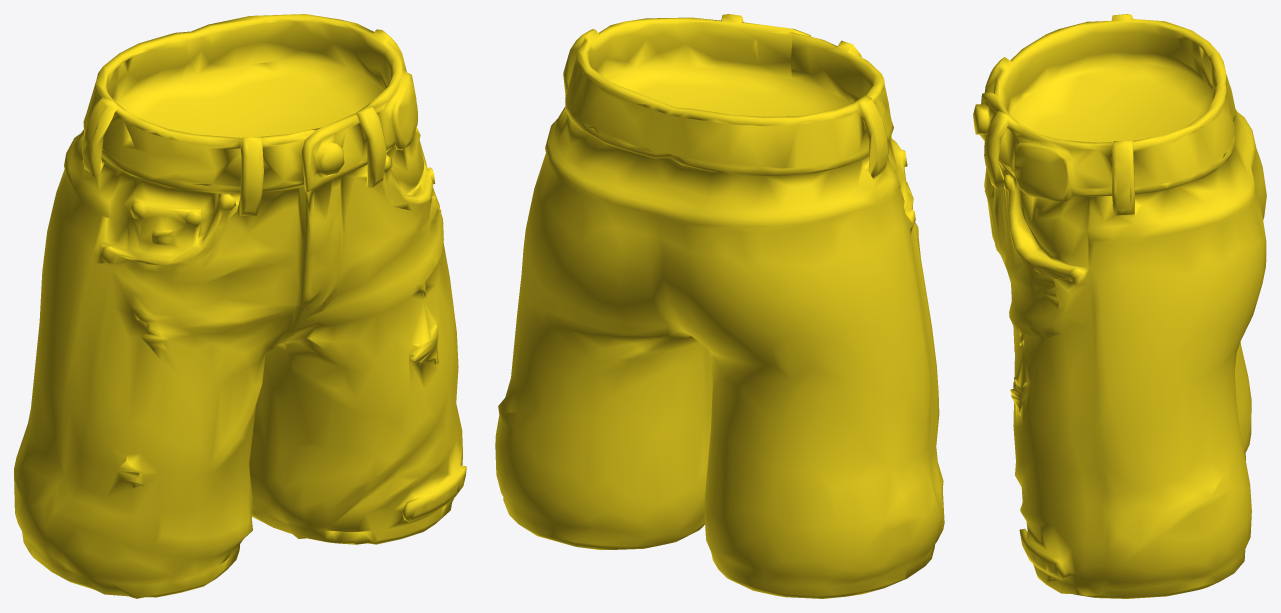
Rendered from Cloth_Jeans.glb.
3 renders of one model, left to right at view 1: azimuth 30°, elevation 25°; view 2: azimuth 150°, elevation 25°; view 3: azimuth 270°, elevation 25°, orthographic. The views are drawn at different scales.
Visible parts, largest first — view 1: 衣服_牛仔褲; view 2: 衣服_牛仔褲; view 3: 衣服_牛仔褲.
Part boxes in pixels (x1=…): 衣服_牛仔褲: x1=14, y1=14, x2=466, y2=598; 衣服_牛仔褲: x1=495, y1=14, x2=944, y2=598; 衣服_牛仔褲: x1=973, y1=14, x2=1266, y2=598.
Bounding box in the file's own units: 0.0459 × 0.049 × 0.0296.
